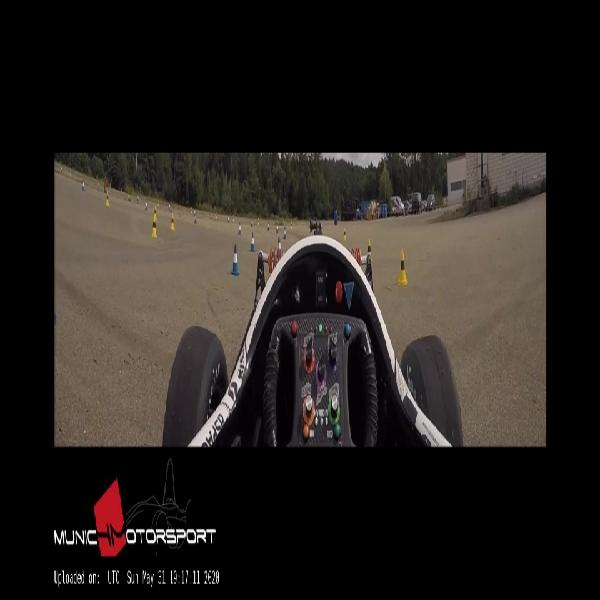blue_cone: (231, 244, 239, 275), (250, 232, 255, 251)
yellow_cone: (398, 250, 407, 285), (367, 239, 372, 262), (152, 216, 156, 238)
